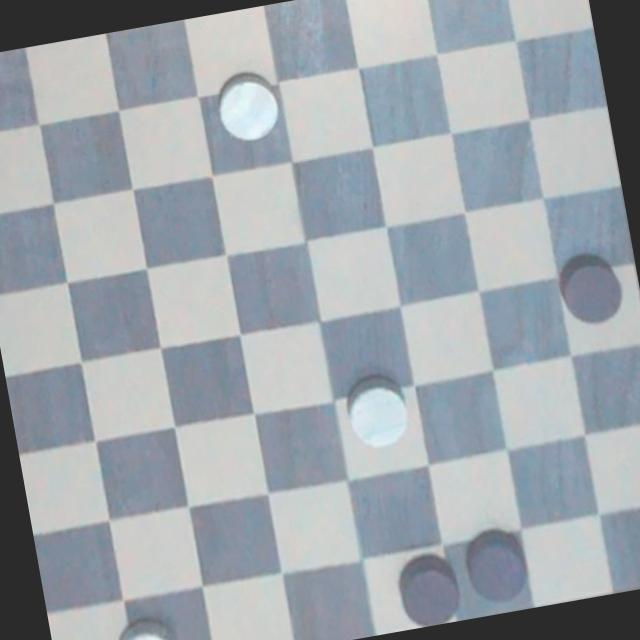BOARD: (0, 0, 640, 640)
black: (386, 534, 471, 630), (550, 238, 634, 331), (460, 522, 534, 608)
white: (336, 362, 426, 468), (206, 66, 290, 150), (106, 608, 188, 640)
